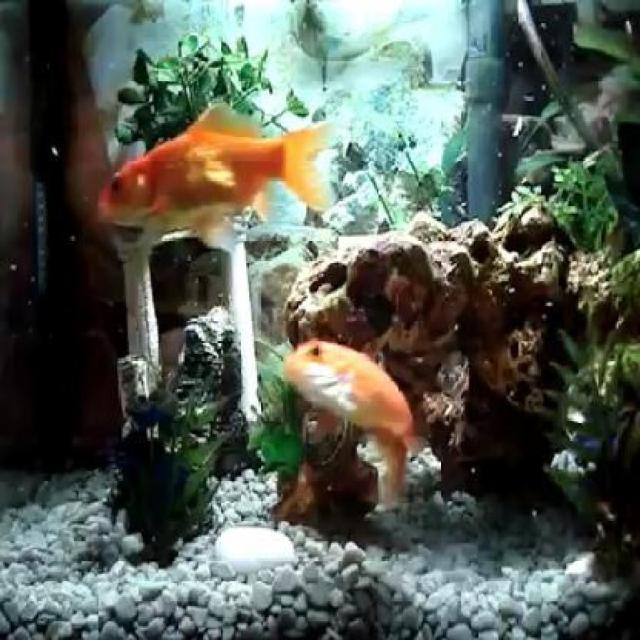GoldFish: (100, 113, 335, 250), (279, 341, 416, 473)
